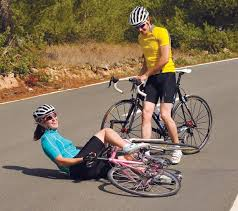helmet: (127, 6, 150, 23), (31, 104, 54, 119)
